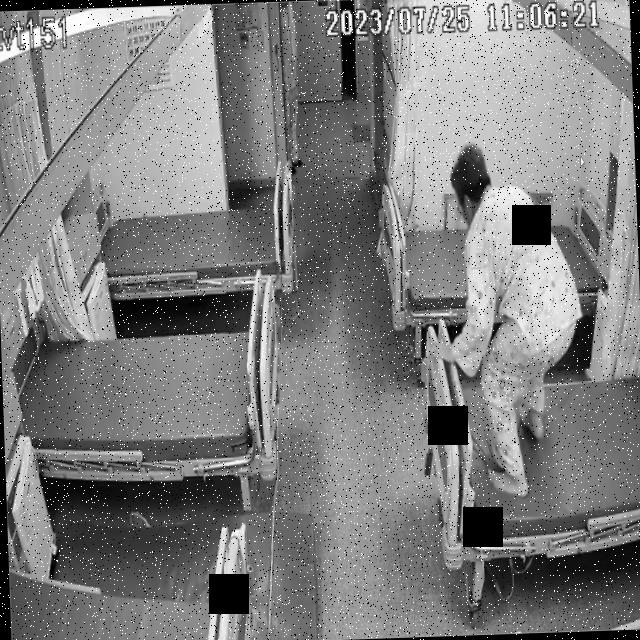bed: (420, 312, 640, 565), (14, 319, 282, 481), (378, 203, 616, 330), (101, 194, 293, 298)
danger: (422, 142, 582, 490)
patient: (421, 142, 582, 498)
